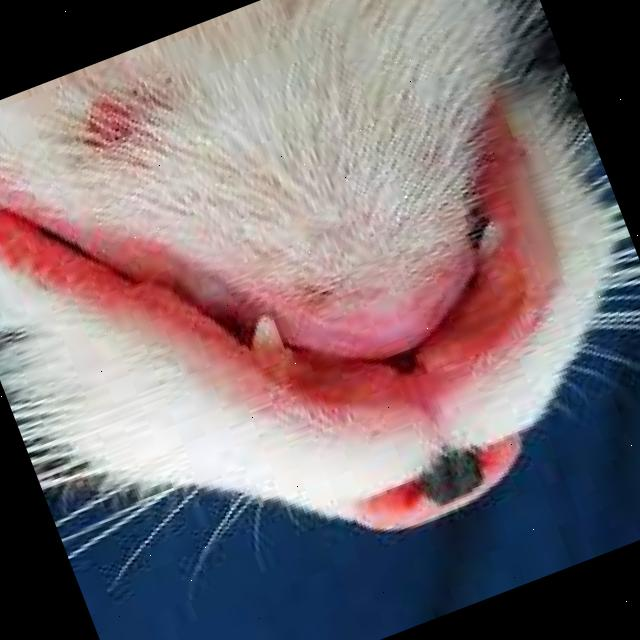cat-acne: (72, 83, 154, 156)
